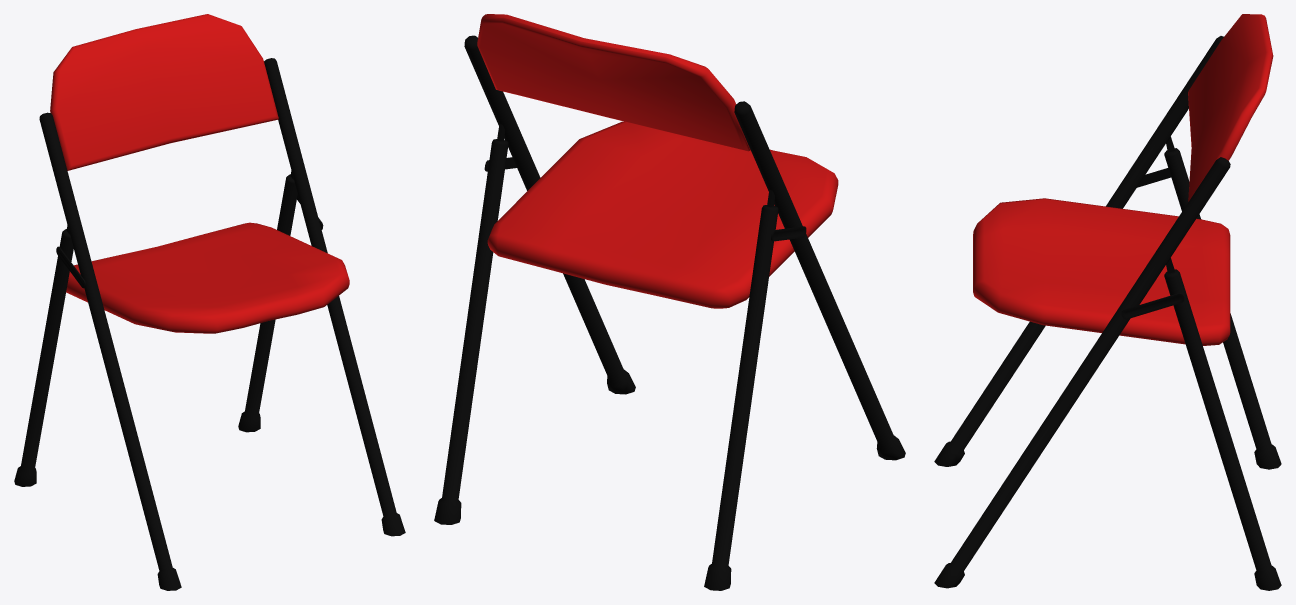
The model's file is chair_folding.obj.
The picture shows the model from 3 angles, left to right: view 1: azimuth 30°, elevation 25°; view 2: azimuth 150°, elevation 25°; view 3: azimuth 270°, elevation 25°; orthographic projection. The views are drawn at different scales.
Parts seen in each view (by area): view 1: 1, 0; view 2: 1, 0; view 3: 1, 0.
Boxes of the visible parts, <box> form: 1: <box>50,14,349,333</box>; 0: <box>14,58,405,590</box>; 1: <box>477,14,838,308</box>; 0: <box>434,35,905,590</box>; 1: <box>973,14,1273,345</box>; 0: <box>934,36,1281,590</box>.
Bounding box in the file's own units: 0.4291 × 0.7169 × 0.4764.
